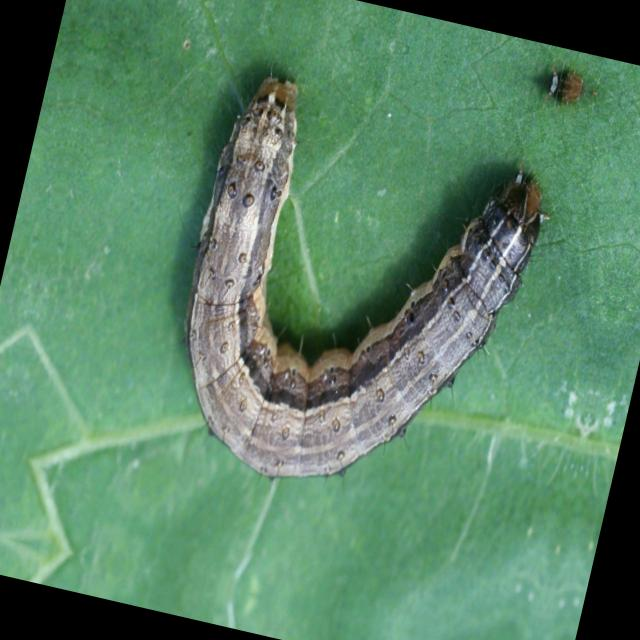Armyworm: (121, 13, 571, 555)
Armyworm_damage: (523, 56, 583, 127)
